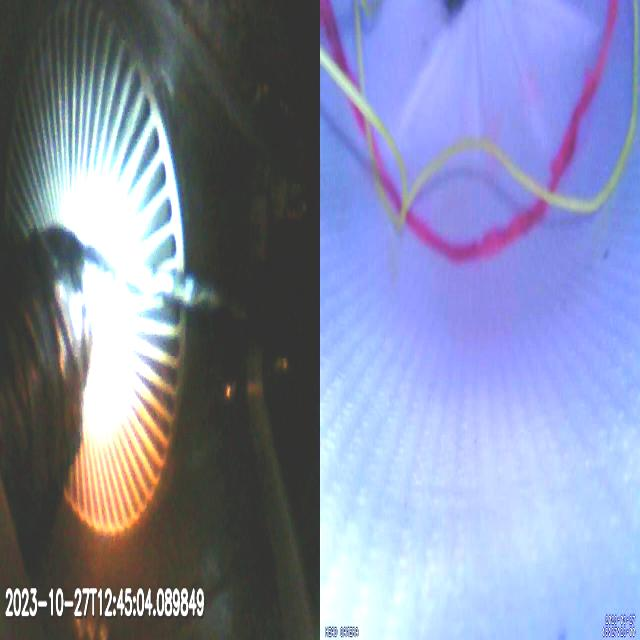red-circle: (319, 0, 621, 265)
